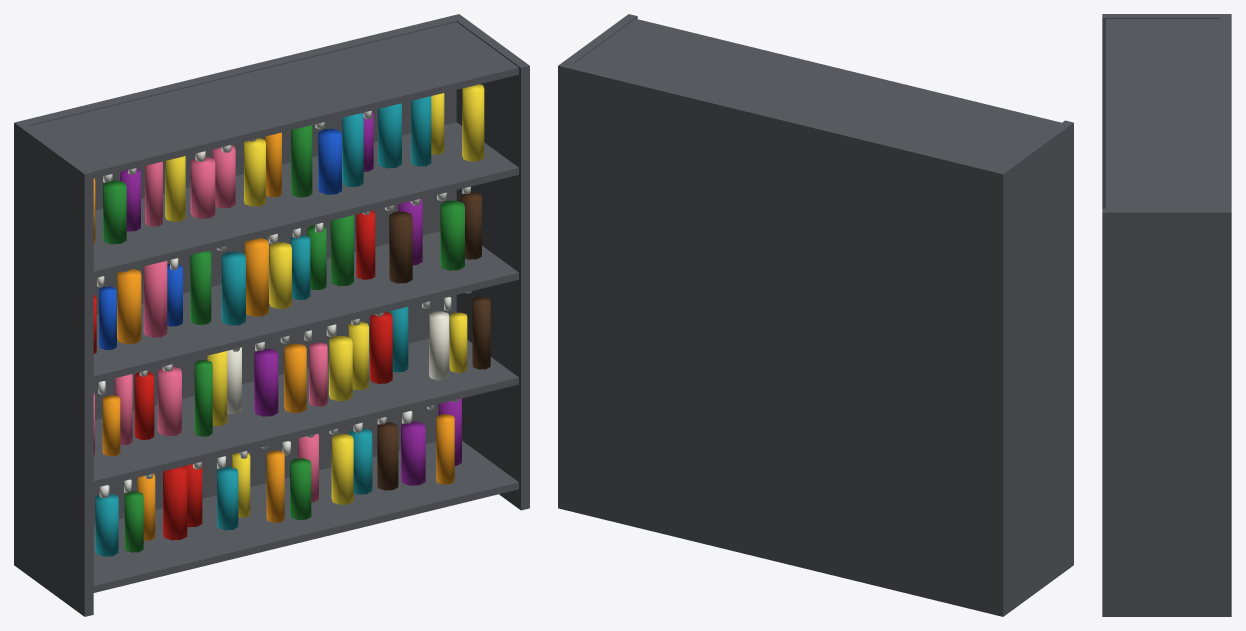
File: drinks_shelf.glb
3 views of the same model, side by side, from view 1: azimuth 30°, elevation 25°; view 2: azimuth 150°, elevation 25°; view 3: azimuth 270°, elevation 25° (orthographic). The views are drawn at different scales.
Visible parts, largest first — view 1: drinks_shelf; view 2: drinks_shelf; view 3: drinks_shelf.
Boxes of the visible parts, x1,y1,x2,y2 form: drinks_shelf: (14,14,529,616); drinks_shelf: (558,14,1073,616); drinks_shelf: (1102,14,1231,616).
Bounding box in the file's own units: 2 × 1.9 × 0.55.
Materials: 1 (1 with a texture image).
